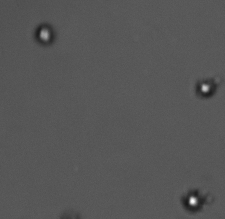Living Cell: (182, 191, 206, 210), (36, 25, 53, 44), (198, 79, 215, 97)
